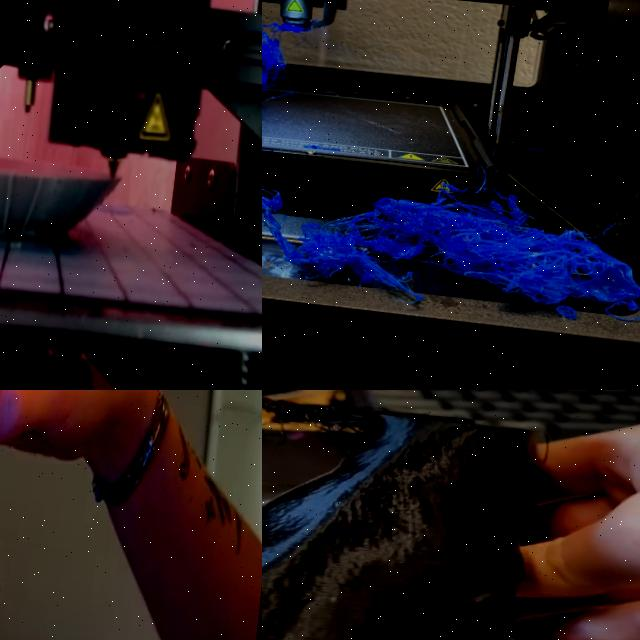spaghetti: (262, 189, 640, 319), (262, 21, 313, 94)
